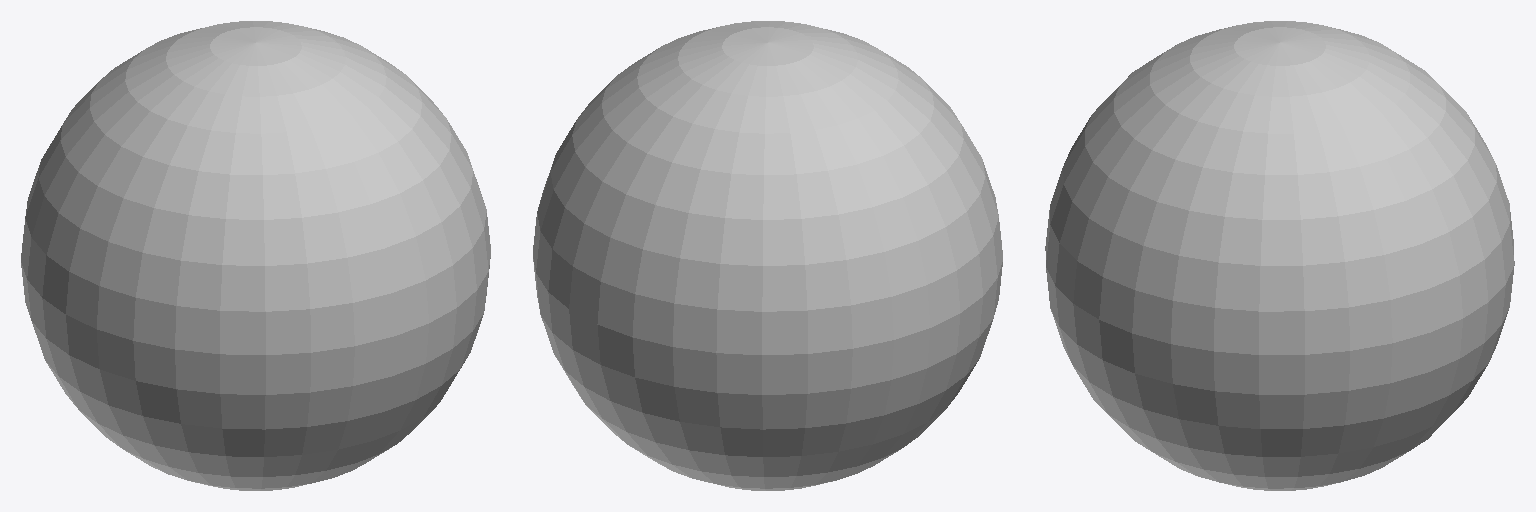
The model's file is neptune.obj.
3 renders of one model, left to right at view 1: azimuth 30°, elevation 25°; view 2: azimuth 150°, elevation 25°; view 3: azimuth 270°, elevation 25°, orthographic.
Visible parts, largest first — view 1: Neptune_Sphere.007; view 2: Neptune_Sphere.007; view 3: Neptune_Sphere.007.
Part boxes in pixels (x1,y1,x2,y2): Neptune_Sphere.007: (21, 21, 490, 490); Neptune_Sphere.007: (533, 21, 1002, 490); Neptune_Sphere.007: (1045, 21, 1514, 490).
Size of the model in its own units: 3.49 by 3.5 by 3.49.